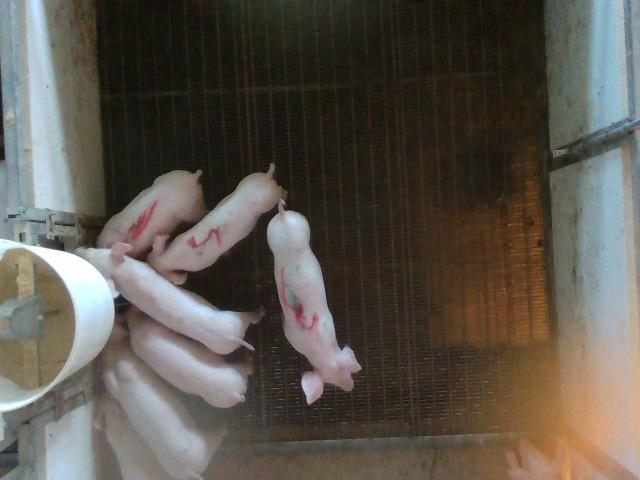pig-1: (98, 170, 206, 258)
pig-3: (268, 201, 361, 403)
pig-5: (148, 164, 286, 283)
